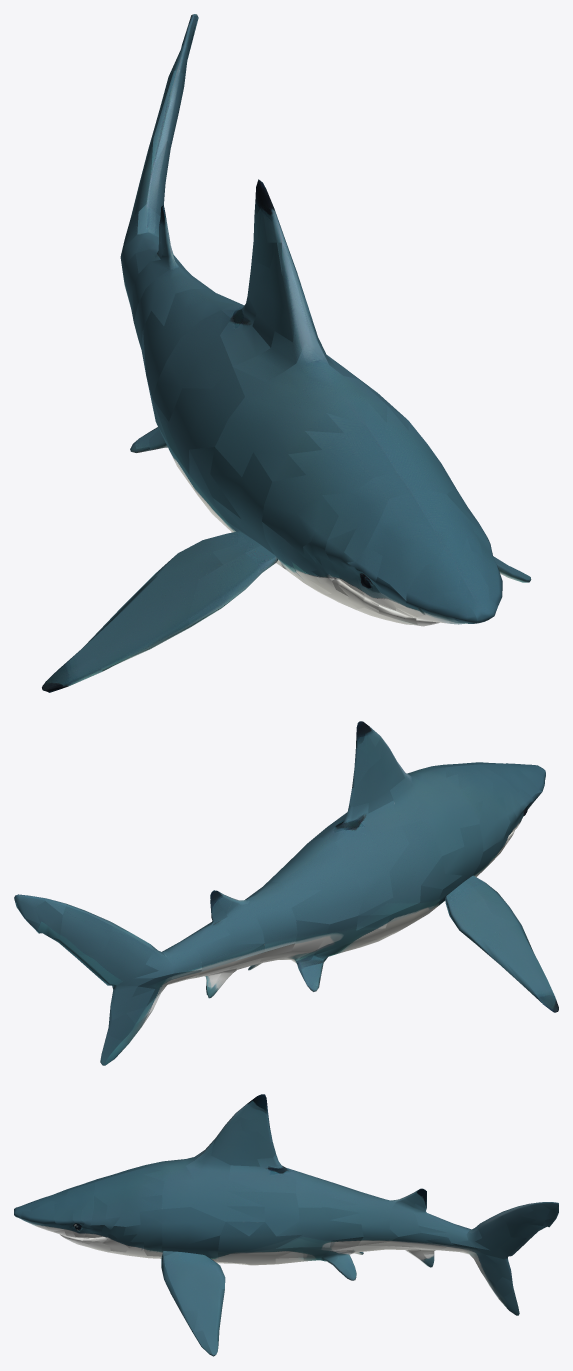
The picture shows the model from 3 angles, top to bottom: view 1: azimuth 30°, elevation 25°; view 2: azimuth 150°, elevation 25°; view 3: azimuth 270°, elevation 25°; orthographic projection. The views are drawn at different scales.
Size of the model in its own units: 0.5254 by 0.4229 by 1.
Materials: 1 (1 with a texture image).
